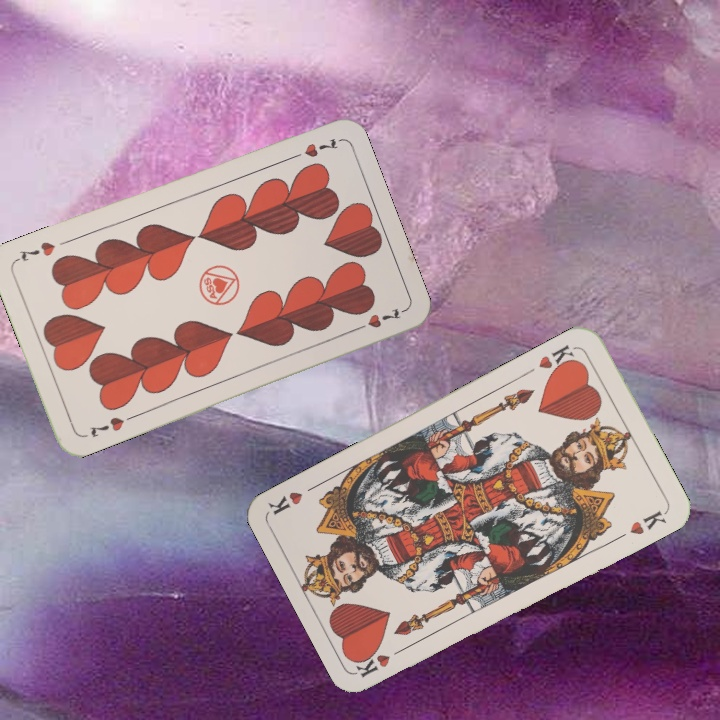H7: (284, 134, 341, 163), (85, 411, 137, 440)
HK: (352, 642, 410, 680), (534, 340, 580, 377)
